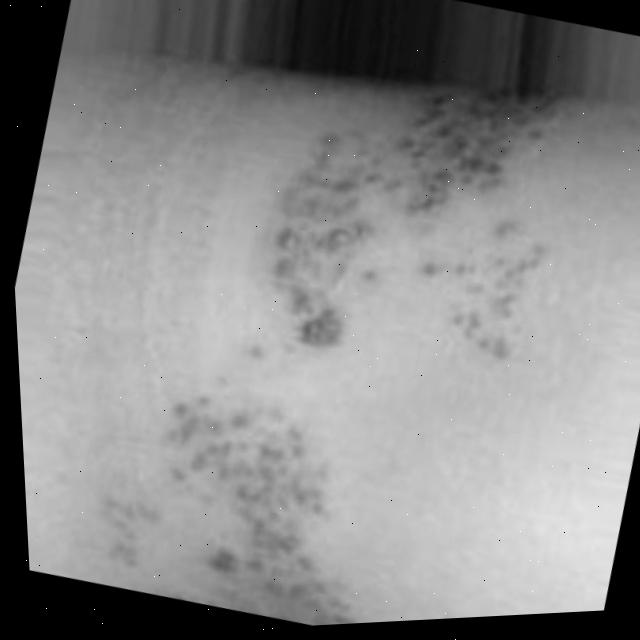Shingles: (231, 37, 589, 407), (77, 358, 426, 637)
